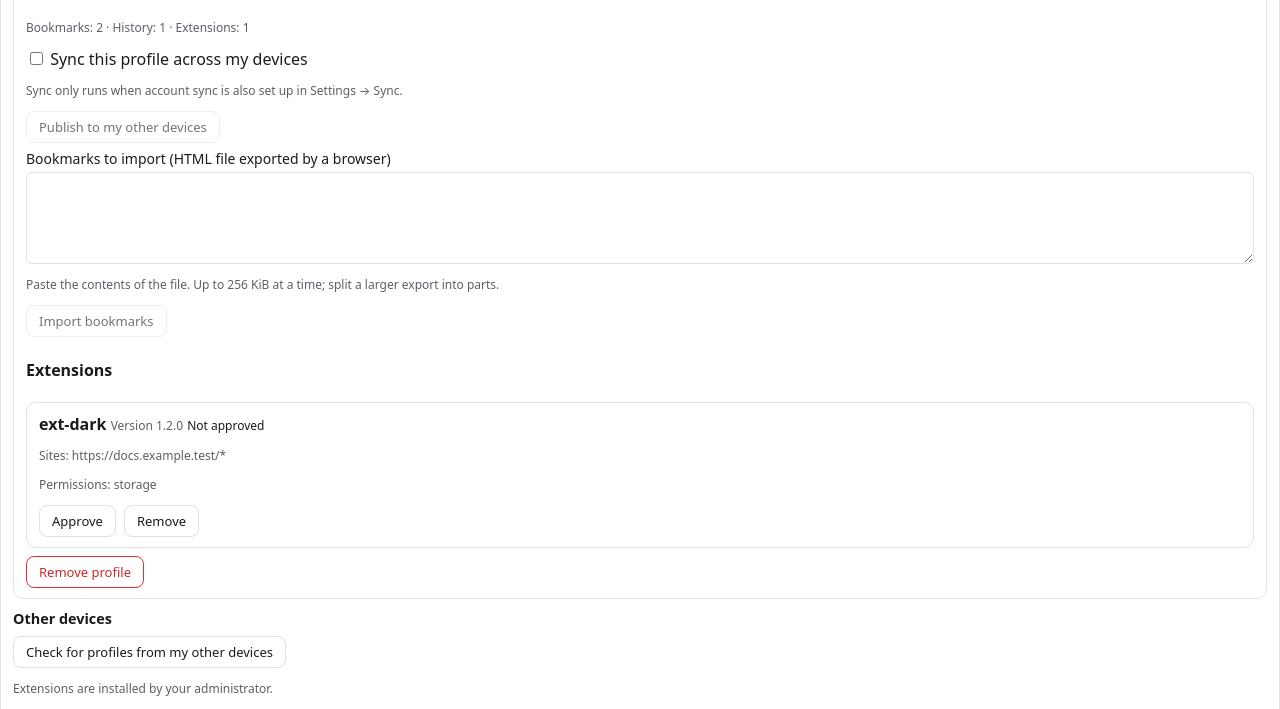
Test: browser profiles card › says so when no other device has anything new
This screenshot has width=1280, height=709.
(page scrolled)
Click the button "Check for profiles from my other devices".
click(150, 652)  # box top-left (13, 636), bottom-right (286, 668)
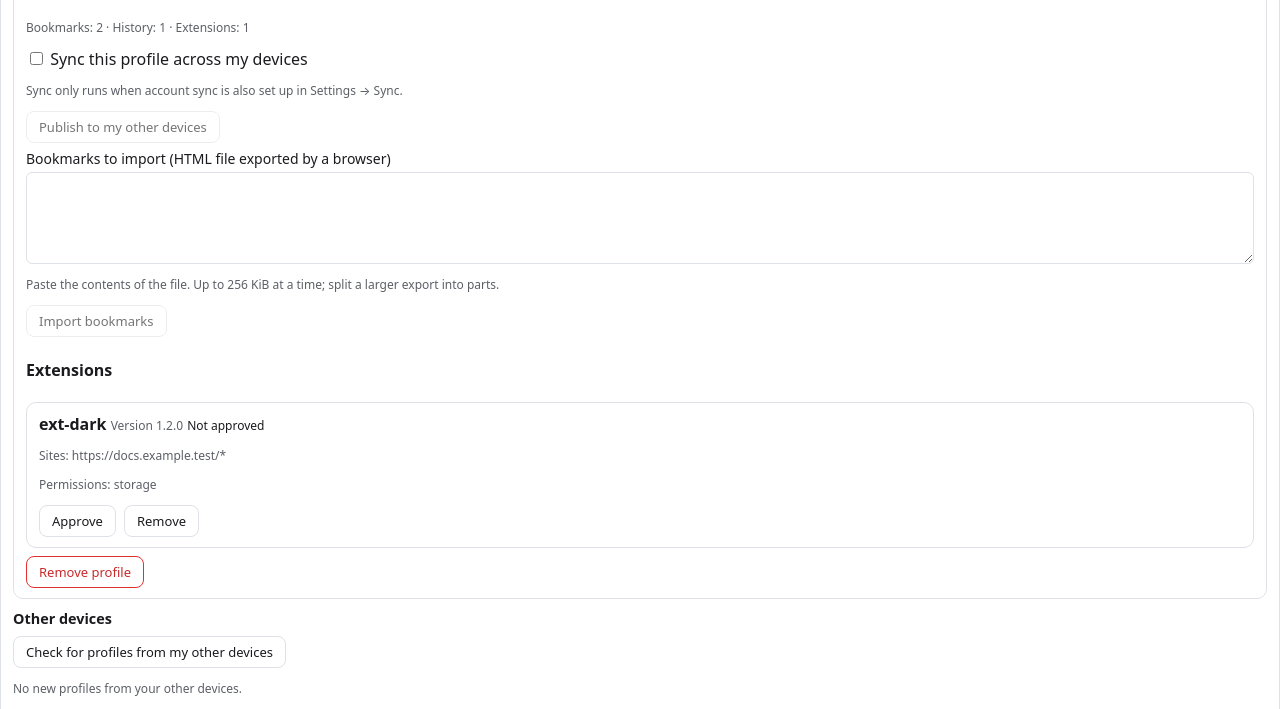
Result: the text "No new profiles from your other devices." is shown at top-left (13, 680), bottom-right (242, 697)
